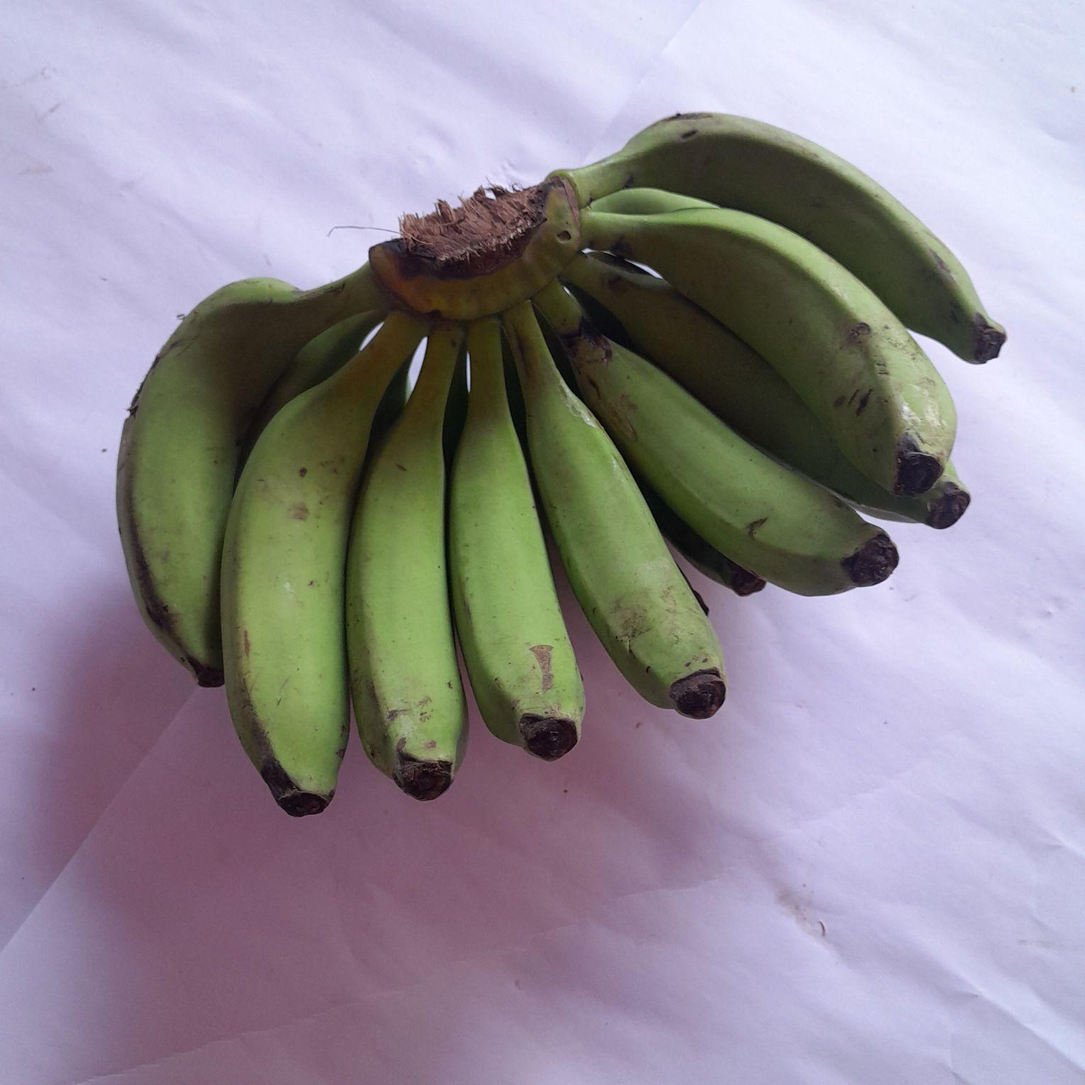Banana Unripe: (117, 265, 388, 687), (562, 112, 1007, 362), (564, 254, 966, 528), (581, 208, 956, 495), (220, 314, 424, 816), (562, 322, 899, 595), (504, 303, 725, 718), (447, 318, 585, 759), (345, 324, 468, 799)
